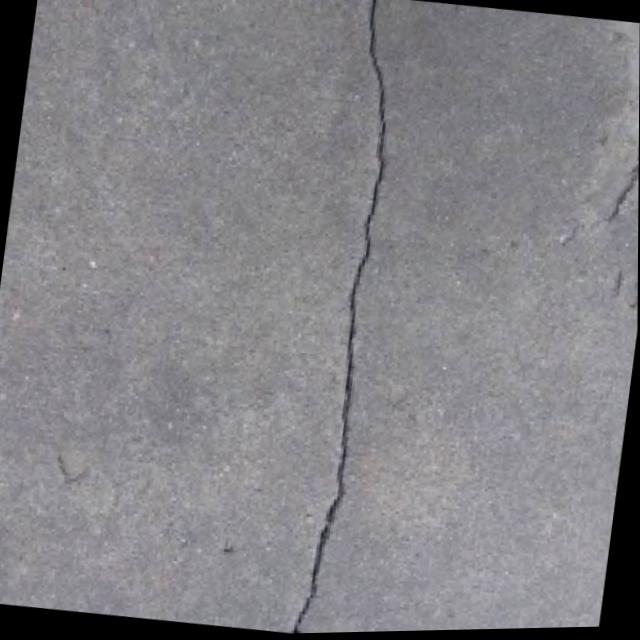Crack: (251, 0, 434, 636)
